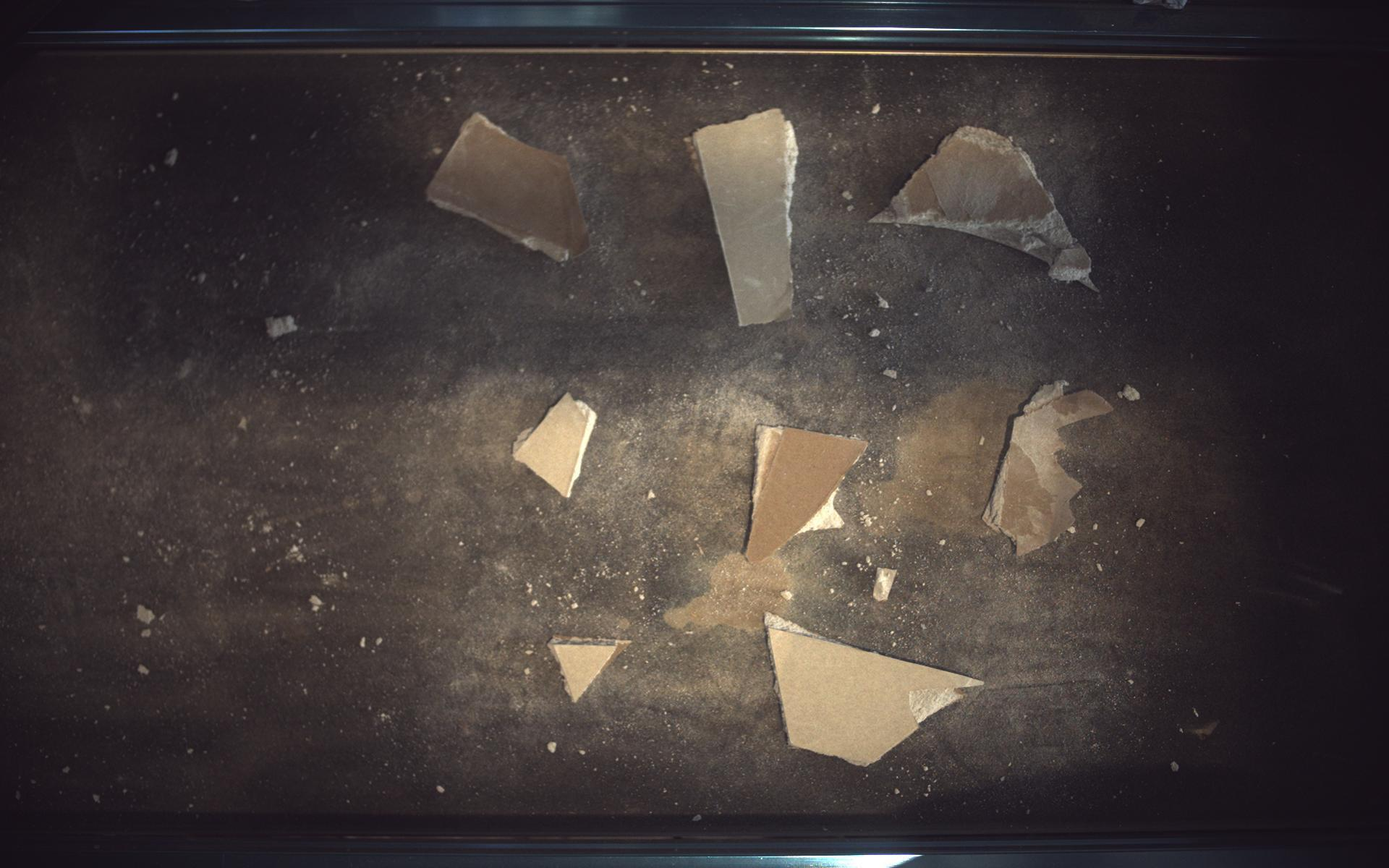gypsum_board: (872, 125, 1099, 290), (766, 614, 985, 767), (428, 113, 590, 261), (985, 380, 1116, 556), (694, 108, 799, 326), (747, 425, 869, 563), (513, 393, 598, 498), (549, 636, 631, 703)
